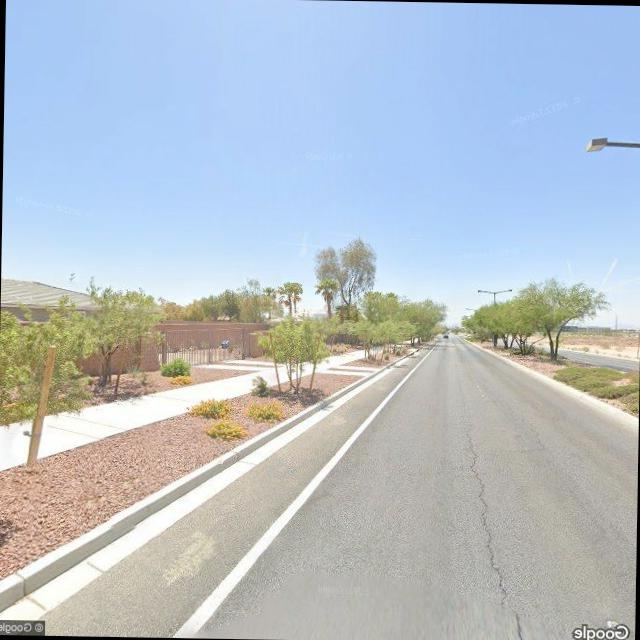pothole: (462, 424, 520, 628)
